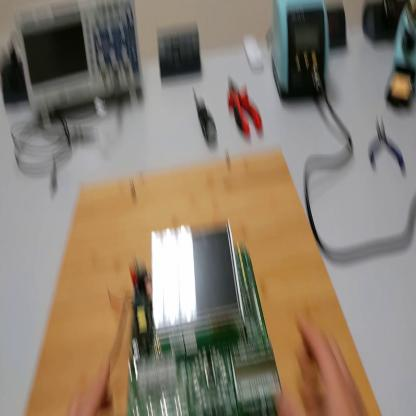hand: (294, 316, 368, 415), (68, 361, 116, 414)
low voltage board: (90, 202, 283, 415)
oscilloscope: (18, 3, 144, 127)
oscilloscope probe tip: (41, 130, 96, 145)
pliers: (227, 76, 264, 138), (369, 116, 407, 173)
screwdriver-: (192, 84, 219, 148)
socket: (363, 1, 414, 47), (3, 59, 29, 110), (327, 4, 347, 53)
welder base: (385, 4, 416, 112)
welder station: (272, 1, 332, 106)
working area: (26, 148, 382, 416)
